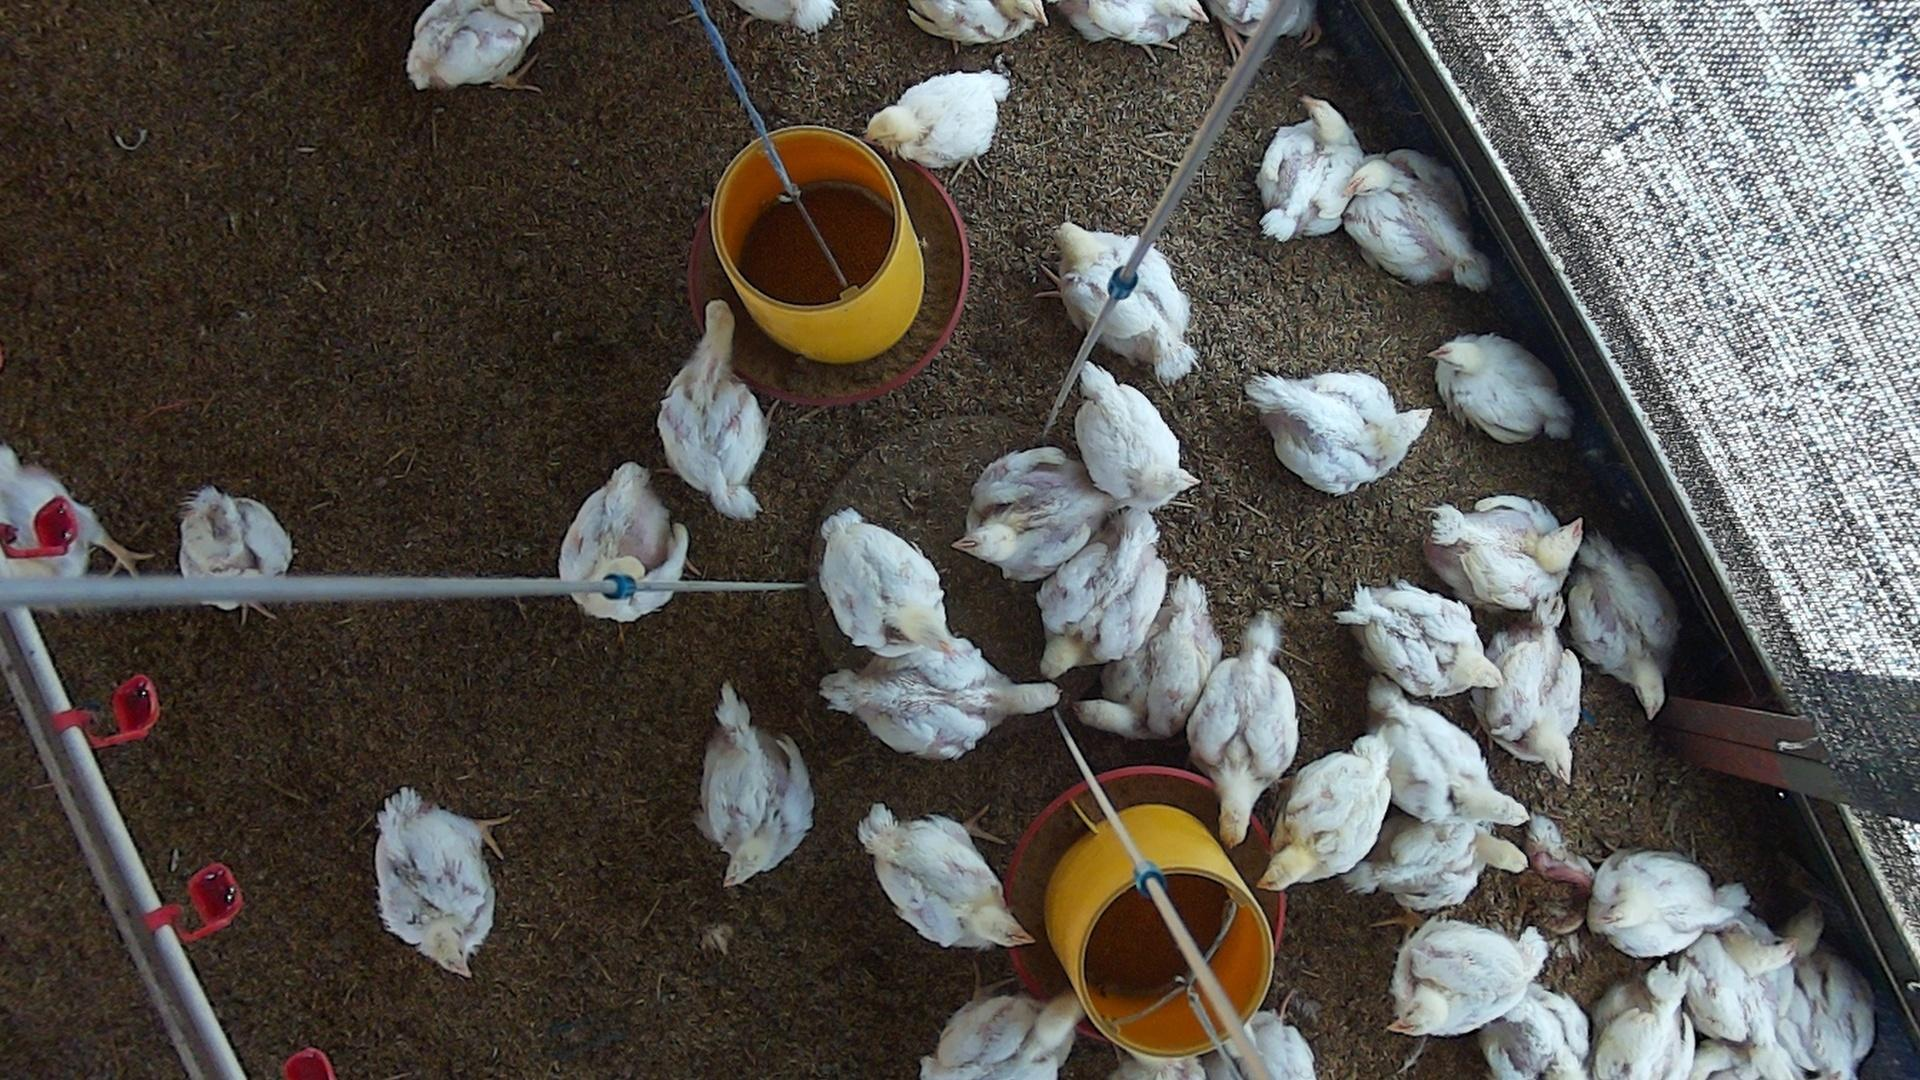ayam_broiler: (819, 637, 1059, 760), (1189, 616, 1299, 841), (1362, 683, 1527, 831), (658, 295, 766, 518), (858, 804, 1027, 945), (700, 682, 815, 886), (1083, 578, 1224, 742), (375, 785, 497, 973), (1245, 371, 1429, 493), (0, 434, 153, 580), (1036, 506, 1167, 675), (1051, 227, 1195, 380), (556, 460, 686, 618), (1569, 530, 1679, 716), (961, 446, 1109, 580), (1265, 733, 1393, 887), (1345, 150, 1489, 287), (1337, 580, 1501, 698), (819, 509, 945, 658), (1073, 356, 1196, 509), (1391, 918, 1548, 1034), (1431, 495, 1582, 608), (1588, 851, 1749, 957), (1349, 818, 1527, 910), (1680, 919, 1797, 1058), (1485, 617, 1582, 781), (1779, 914, 1874, 1080), (1258, 96, 1362, 240), (1435, 334, 1571, 442), (920, 993, 1081, 1080), (865, 71, 1009, 167), (179, 485, 293, 601), (406, 0, 547, 88), (1593, 964, 1692, 1080), (1481, 989, 1590, 1080), (1213, 1007, 1317, 1080), (1064, 1, 1203, 45)
